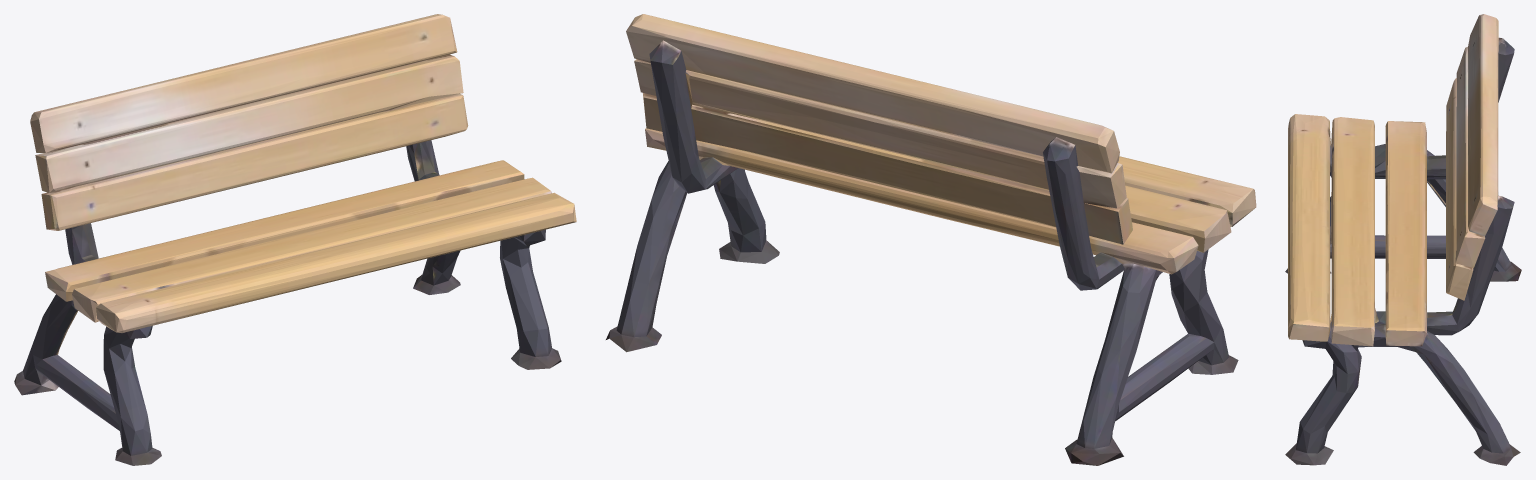
The model's file is bench.glb.
3 renders of one model, left to right at view 1: azimuth 30°, elevation 25°; view 2: azimuth 150°, elevation 25°; view 3: azimuth 270°, elevation 25°, orthographic. The views are drawn at different scales.
Visible parts, largest first — view 1: figure; view 2: figure; view 3: figure.
Part boxes in pixels (x1,y1,x2,y2): figure: (14, 14, 576, 465); figure: (606, 14, 1256, 465); figure: (1285, 14, 1521, 465).
Bounding box in the file's own units: 1.71 × 1 × 0.8188.
1 material, 1 textured.
